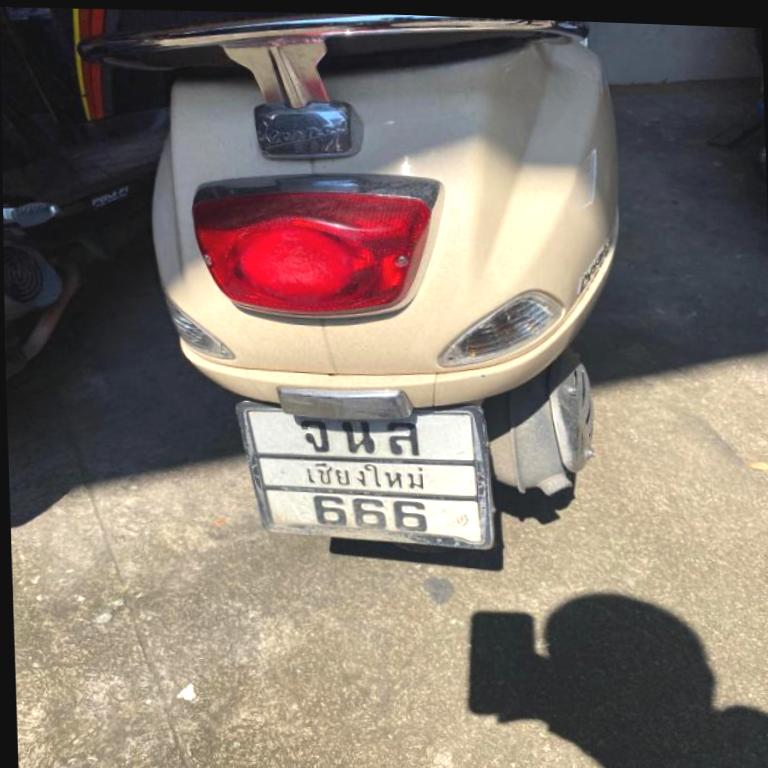license plate: (234, 392, 493, 562)
